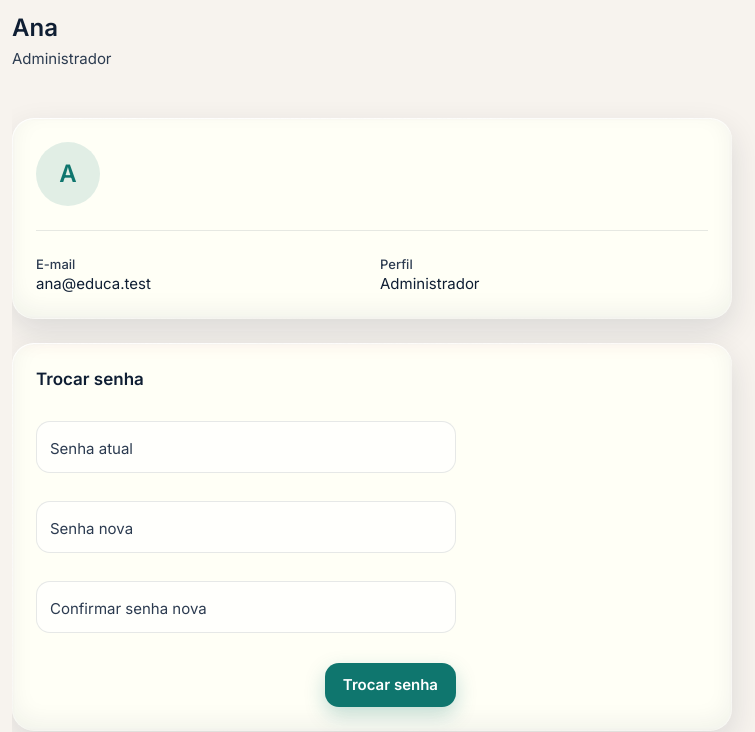
Test: ProfilePage › shows the wrong current password on the field
Expected: the heading "Ana" is shown, [12,13,58,42]
Type "errada-errada" into the password field labelled "Senha atual" at (246, 447), box [36,421,456,473]
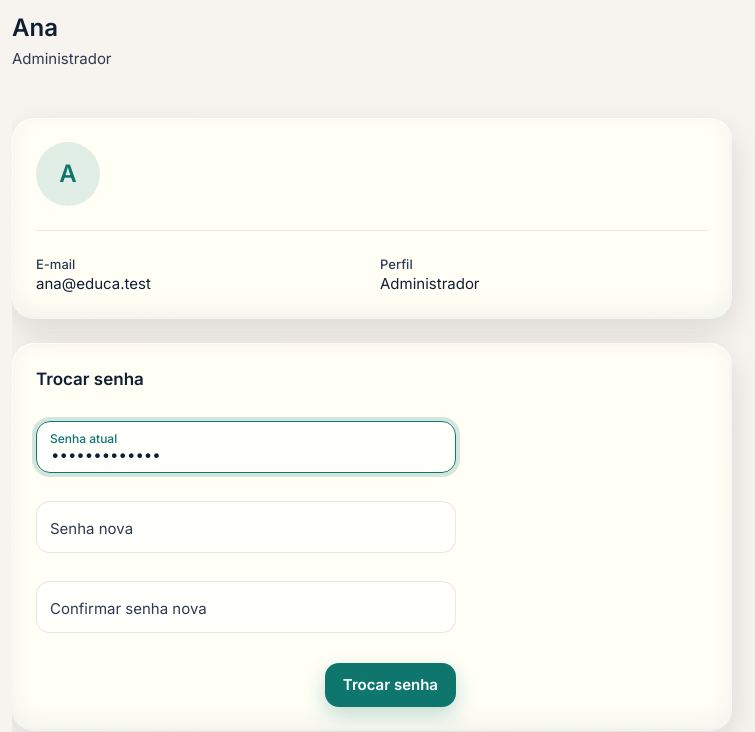
Type "senha-nova-forte-2" into the password field labelled "Senha nova" at (246, 527), box [36,501,456,553]
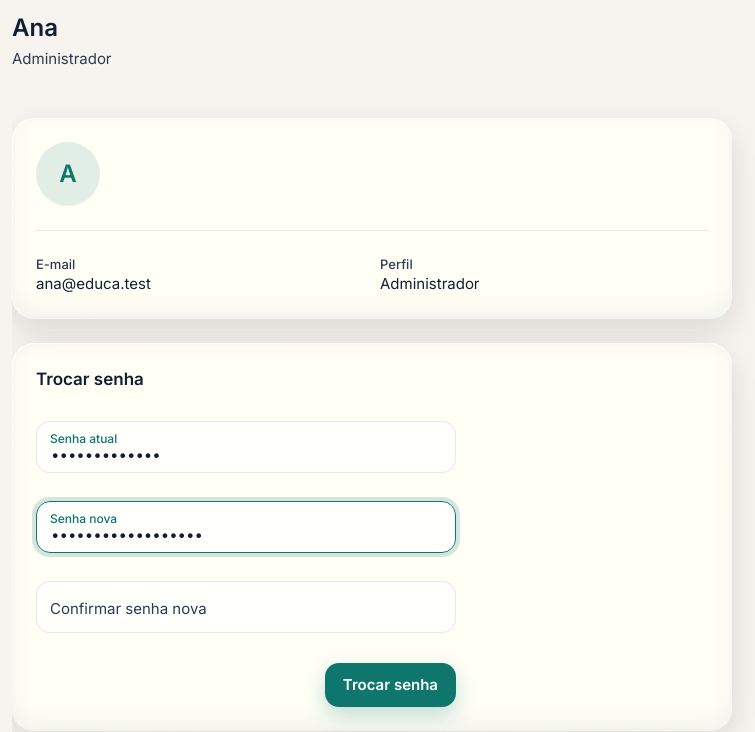
Type "senha-nova-forte-2" into the password field labelled "Confirmar senha nova" at (246, 607), box [36,581,456,633]
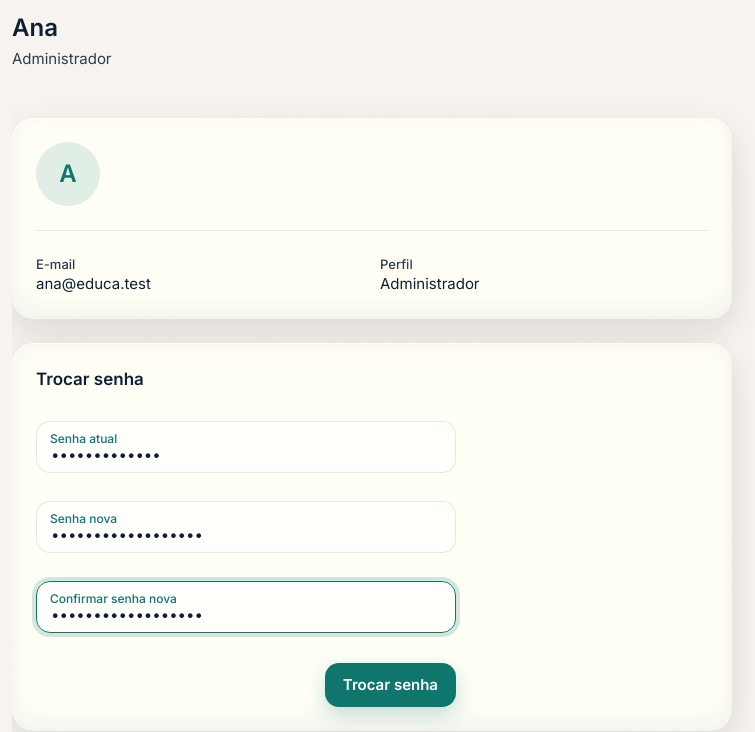
Click the button "Trocar senha" at (390, 685), box [325,663,456,707]
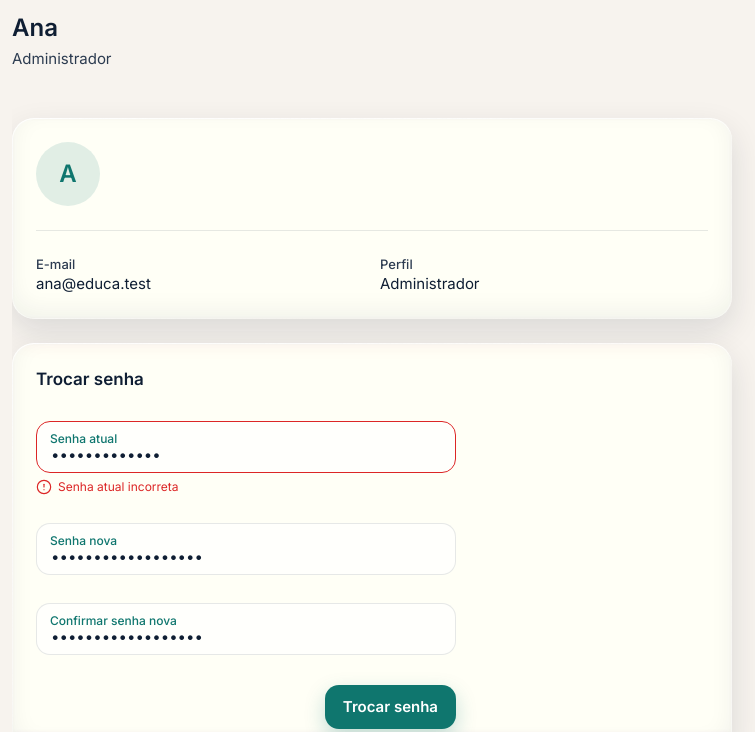
Now the text "Senha atual incorreta" is shown, box [36,479,179,495]
